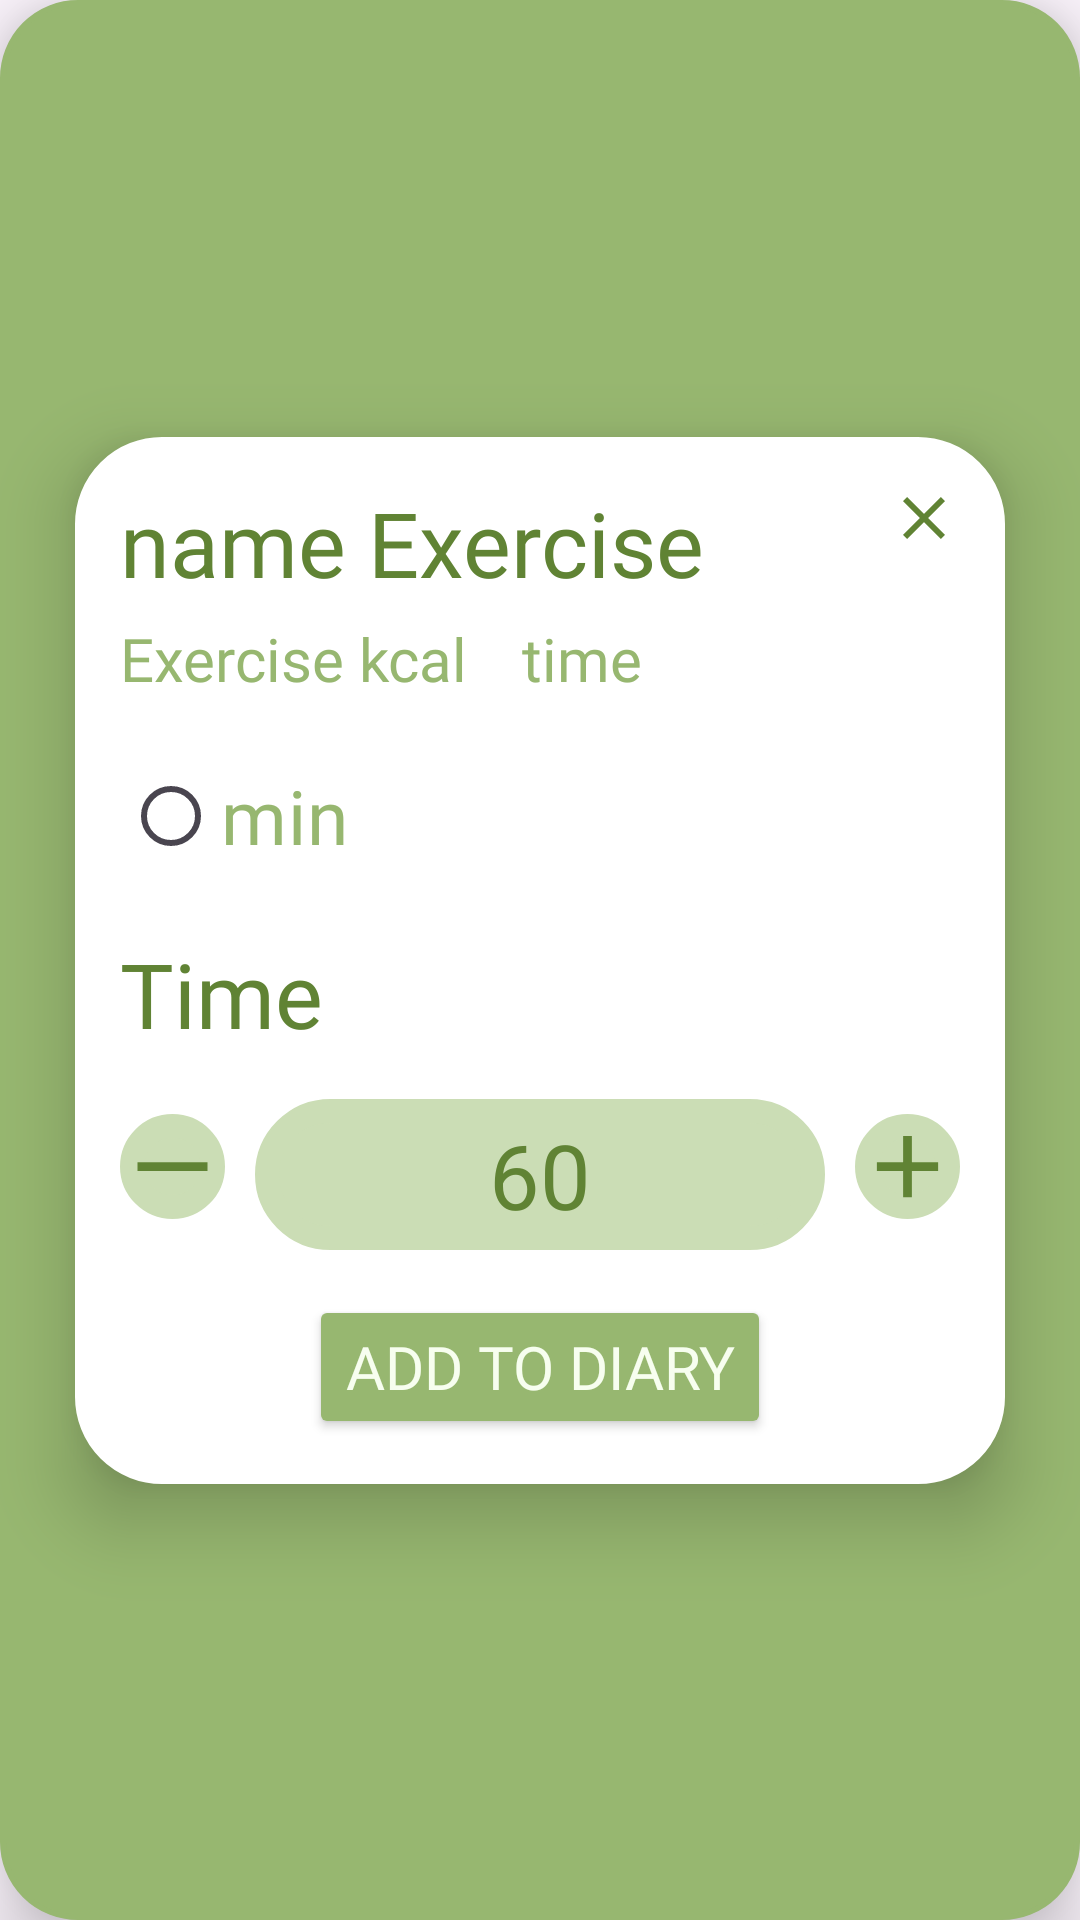

Where to tap for icons on this 1080 x 1920 app screen, as (x=x, y=y):
cancel: (x=924, y=518)
minus: (x=172, y=1166)
